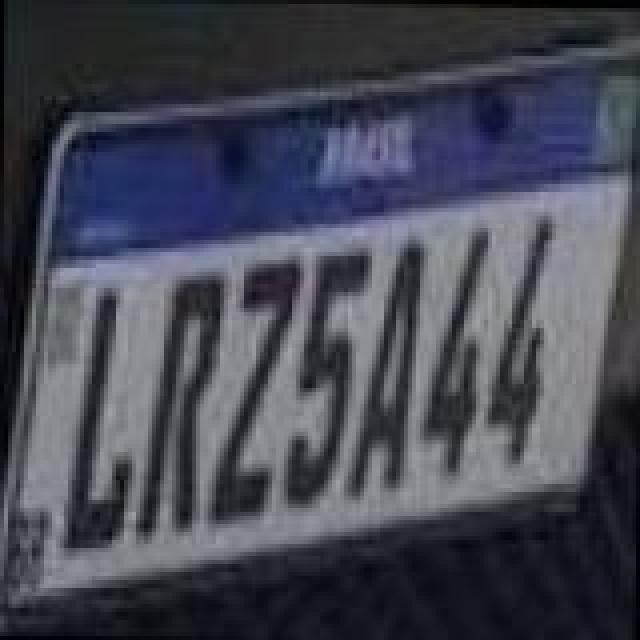4: (420, 222, 492, 474), (484, 218, 556, 470)
5: (282, 246, 374, 510)
A: (348, 240, 428, 504)
L: (58, 284, 138, 556)
R: (136, 276, 228, 540)
Z: (206, 256, 302, 528)
